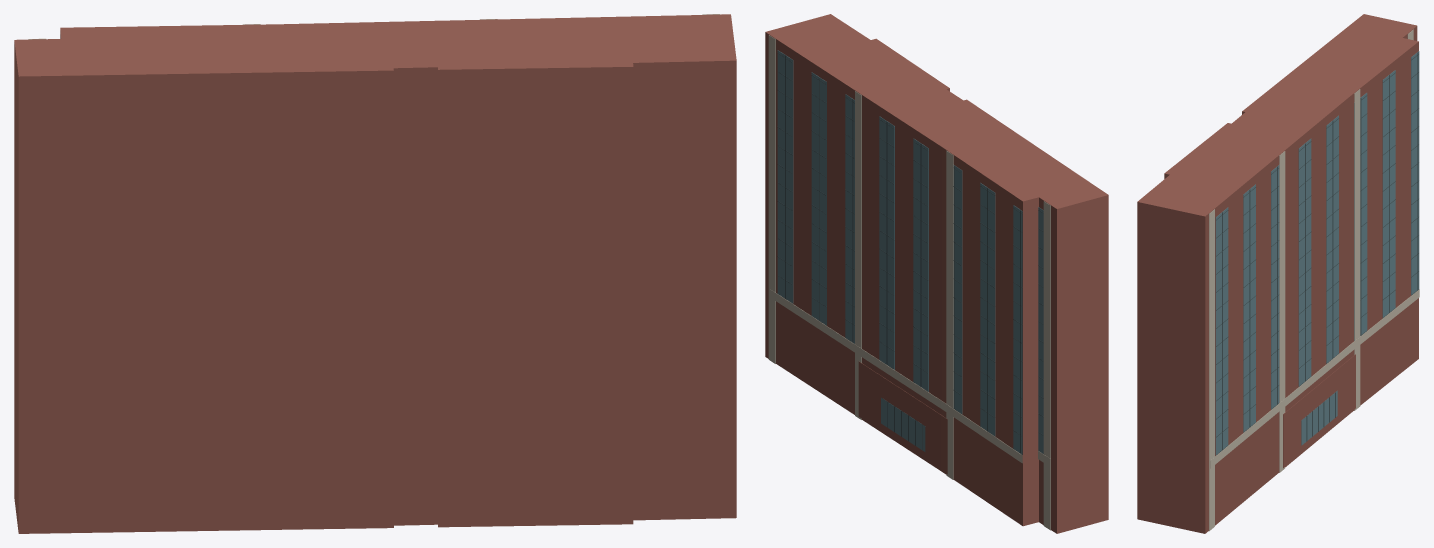
3 views of the same model, side by side, from view 1: azimuth 30°, elevation 25°; view 2: azimuth 150°, elevation 25°; view 3: azimuth 270°, elevation 25° (orthographic). The views are drawn at different scales.
Visible parts, largest first — view 1: ov359_stone; view 2: ov359_stone, ov359_opaque glazing, ov359_accent, ov359_frames; view 3: ov359_stone, ov359_opaque glazing, ov359_accent, ov359_frames.
Part boxes in pixels (x1,y1,x2,y2): ov359_stone: (14, 14, 736, 533); ov359_stone: (765, 14, 1108, 533); ov359_opaque glazing: (777, 50, 1043, 454); ov359_accent: (768, 35, 1050, 530); ov359_frames: (777, 52, 1043, 454); ov359_stone: (1137, 14, 1418, 533); ov359_opaque glazing: (1215, 51, 1419, 455); ov359_accent: (1209, 29, 1419, 531); ov359_frames: (1216, 52, 1419, 455).
Bounding box in the file's own units: 88.37 × 64.6 × 52.1.
